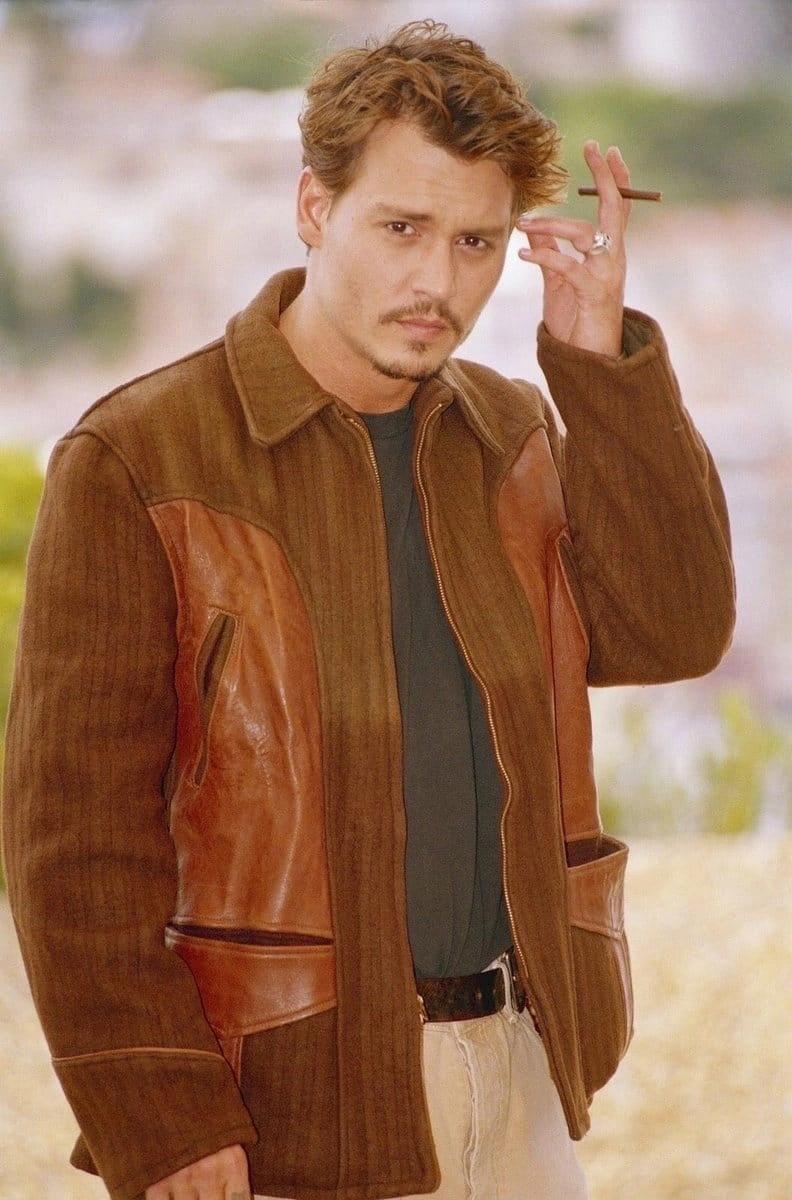cigarette: (577, 187, 664, 202)
